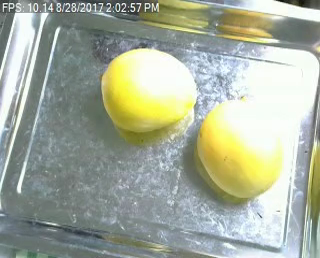Mango: (197, 99, 285, 198), (102, 48, 196, 131)
